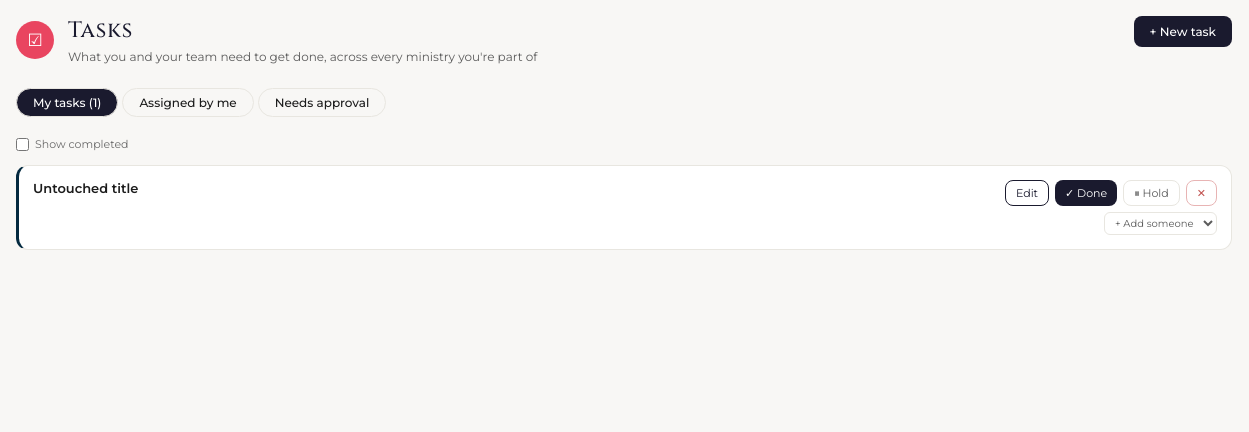
Test case: cancel discards edits without saving
Click the button "Untouched title" at [86, 188], box [33,180,138,196]
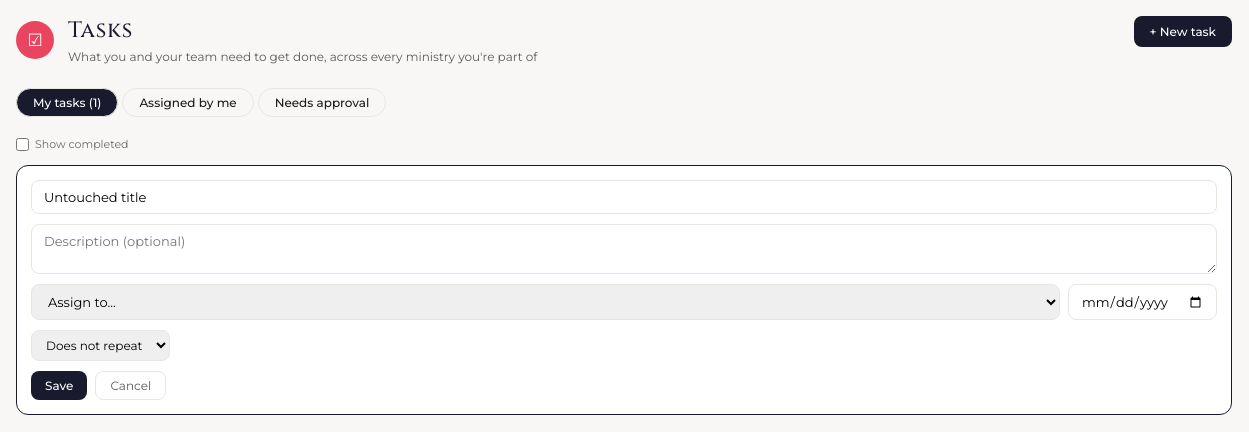
Replace the text in the field showing "Untouched title" with "Changed but not saved" at [624, 197], box [31,180,1217,214]
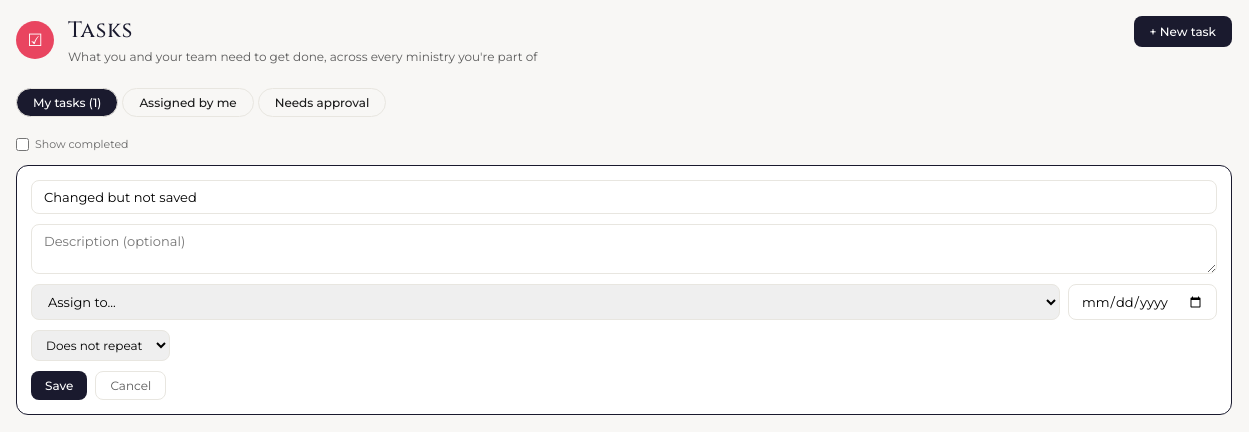
Click the button "Cancel" at [131, 386], box [95,371,166,400]
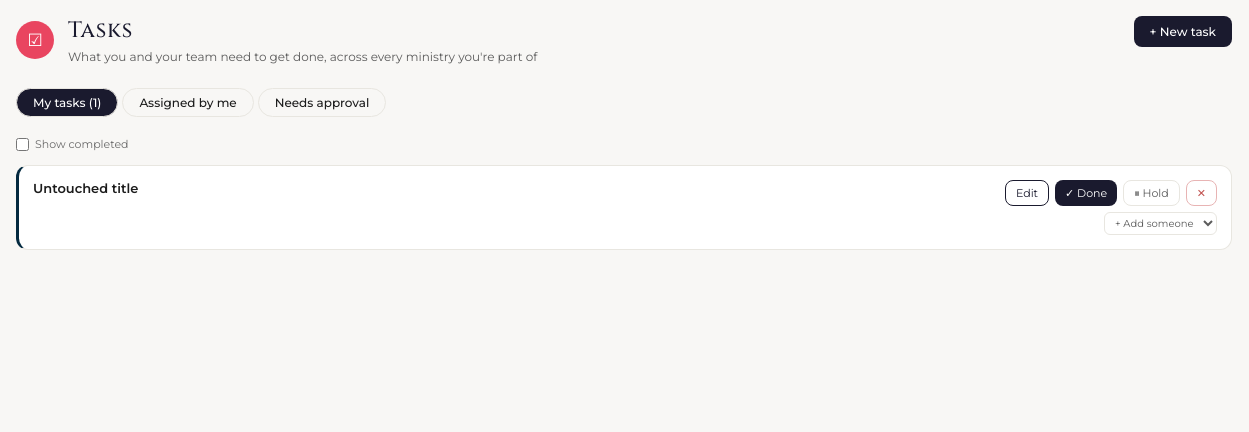
Expected: the text "Untouched title" is shown, [33,180,138,196]
